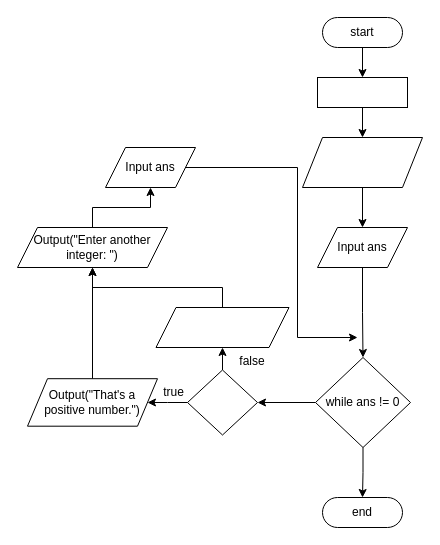
This 440x545 diagram has some shape labels left out. Each missing label, with the centre of its shape:
declare int ans: [362,92]
if ans > 0: [222,402]
Output("Enter an integer: "): [362,162]
Output("That's a negative number."): [222,327]
